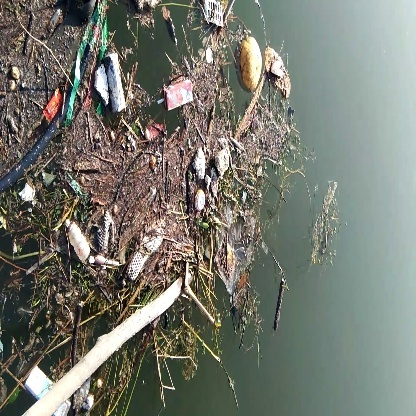branch: (266, 279, 294, 337)
